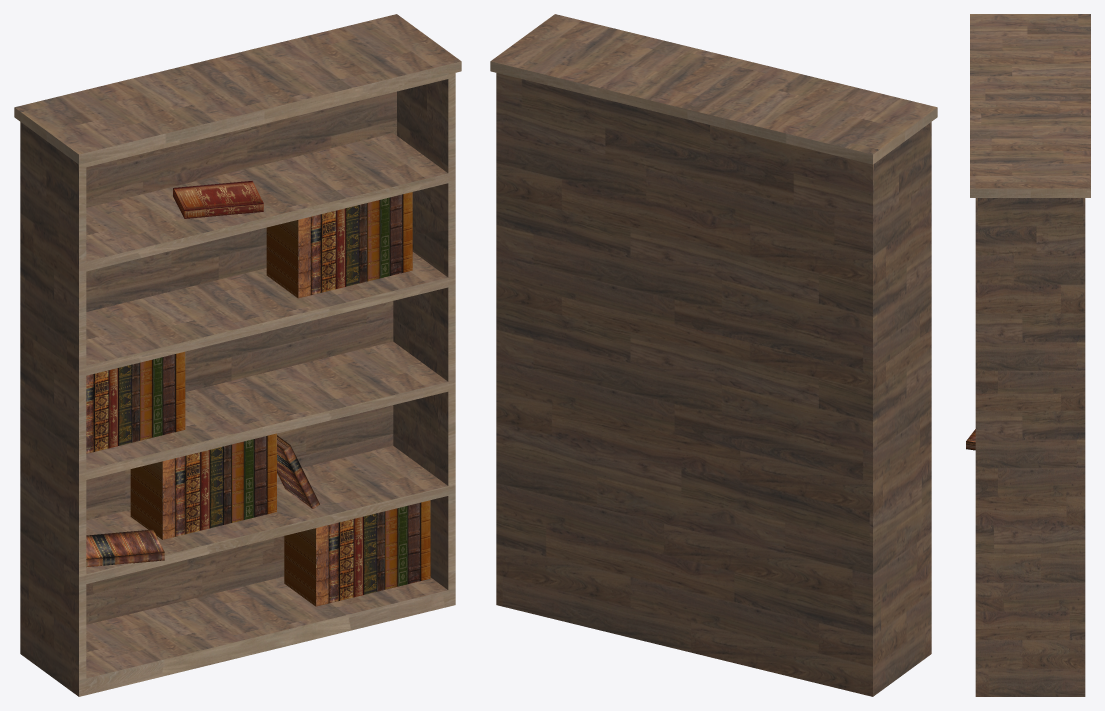
The picture shows the model from 3 angles, left to right: view 1: azimuth 30°, elevation 25°; view 2: azimuth 150°, elevation 25°; view 3: azimuth 270°, elevation 25°; orthographic projection. The views are drawn at different scales.
Parts seen in each view (by area): view 1: Base, BookCollection02, BookCollection03, BookCollection05, BookCollection01, Book003, Book002, Book001; view 2: Base; view 3: Base.
Boxes of the visible parts, box(x1,y1,x2,y2) form: Base: box(14, 14, 461, 696); BookCollection02: box(284, 500, 430, 606); BookCollection03: box(266, 192, 412, 298); BookCollection05: box(130, 433, 276, 539); BookCollection01: box(86, 351, 185, 453); Book003: box(173, 181, 263, 218); Book002: box(86, 529, 164, 567); Book001: box(277, 435, 319, 508); Base: box(490, 14, 937, 696); Base: box(970, 14, 1090, 696).
Size of the model in its own units: 30.74 by 41.87 by 9.29.
3 materials, 3 textured.
